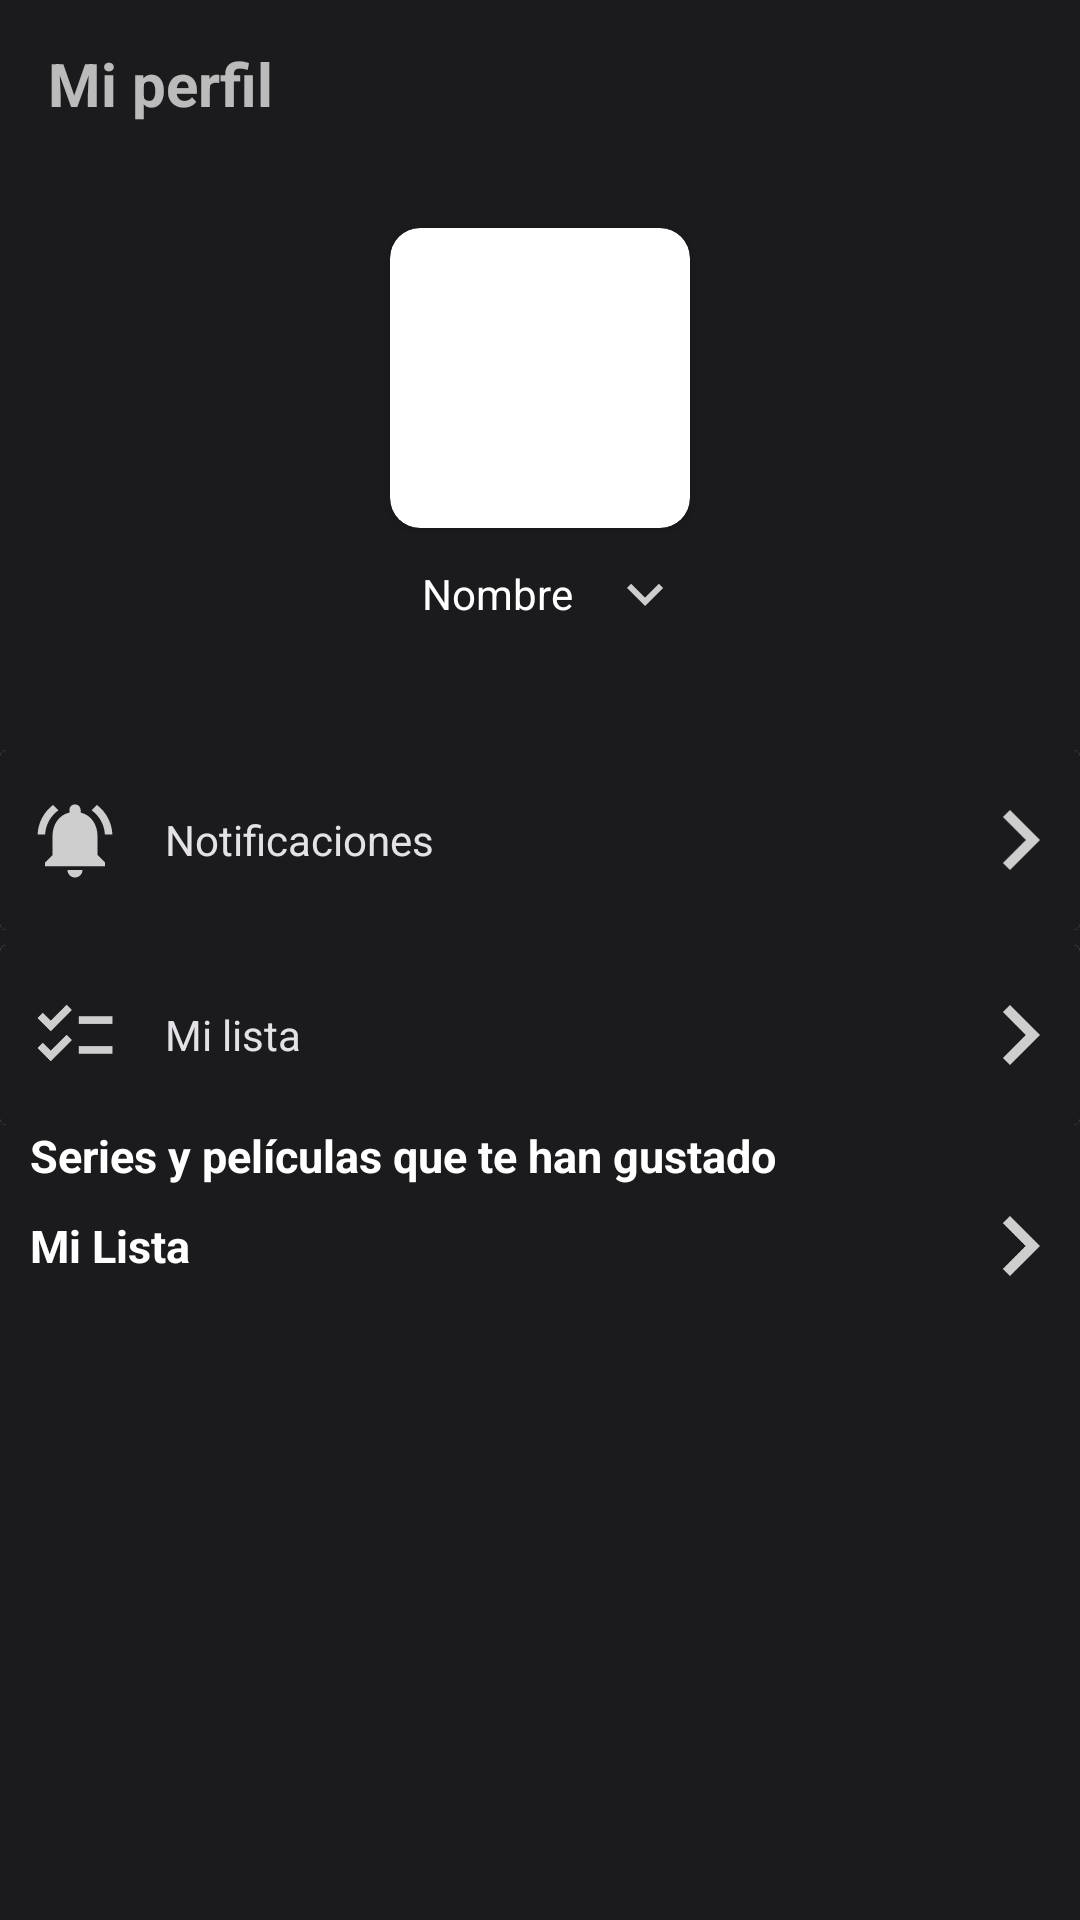

Icon bounding boxes for this 1080 x 1920 phone screenshot, format (x1, y1, x2, y2):
checklist: (38, 1005, 113, 1061)
keyboard arrow down: (627, 584, 663, 606)
navigate next: (1003, 810, 1040, 870), (1003, 1005, 1040, 1065), (1003, 1216, 1040, 1276)
notifications: (37, 804, 113, 878)
